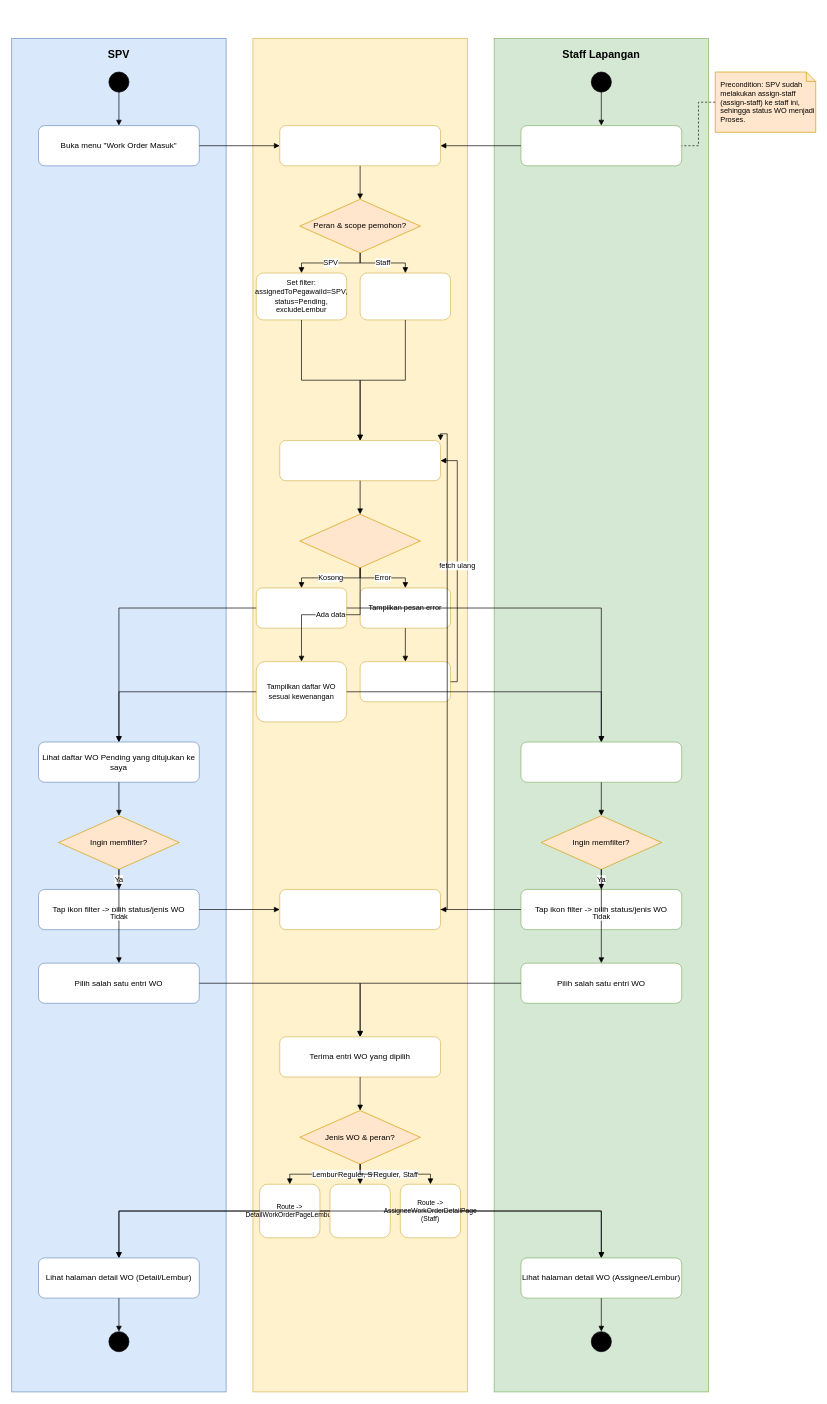
Some shapes in this 827 by 1404 pixel diagram are drawn without their labels. Here are the shapes that lost their labels. From the top down, the box of each, then its label:
(279, 125, 441, 166): Terima request daftar WO
(520, 125, 682, 166): Buka menu "Work Order" -> tab Pengerjaan
(359, 272, 451, 320): Set filter: userId=Staff, status=Proses (ditugaskan/inProgress/pengecekan)
(279, 440, 441, 481): GET /v1/workorder dengan filter kewenangan
(299, 514, 420, 568): Ada data?
(256, 587, 347, 628): Tampilkan 'Belum ada data'
(359, 661, 451, 702): Aktor tap 'Coba lagi'
(252, 38, 467, 1392): Sistem (Aplikasi & Backend)
(520, 741, 682, 782): Lihat daftar WO yang sudah di-assign ke saya (status Proses)
(279, 889, 441, 930): Terima pilihan filter (status/jenis) & fetch ulang
(329, 1184, 390, 1238): Route -> DetailWorkOrderPage (SPV)
